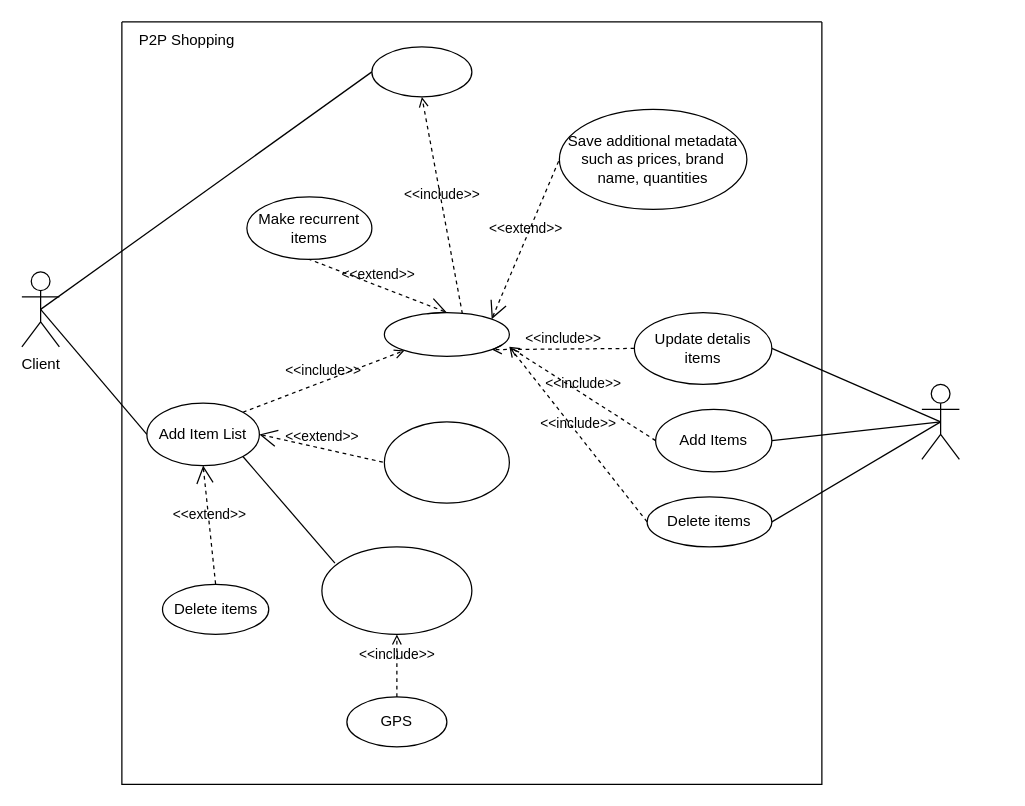
Some shapes in this 1025 by 806 pixel diagram are drawn without their labels. Each missing label, with the centre of its shape:
"Complete item on the list" belongs at point 396,590.
"Log in" belongs at point 446,333.
"Register User" belongs at point 421,71.
"Share the list with other users" belongs at point 446,462.
"Shop Administrator" belongs at point 940,421.
